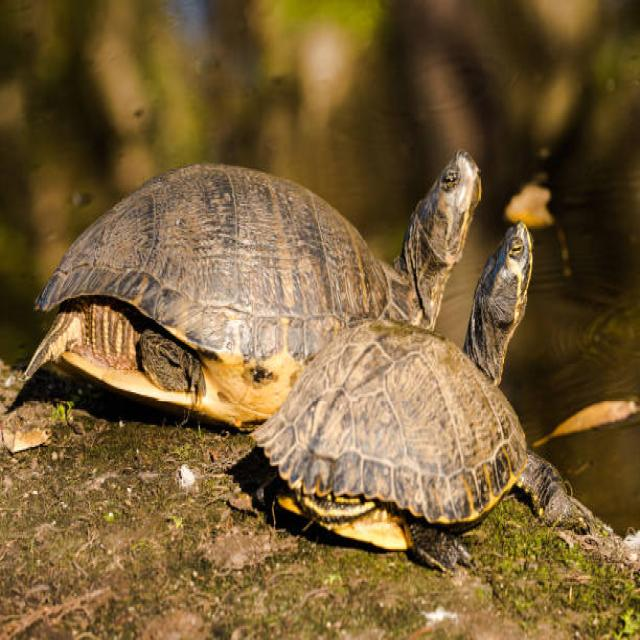terrapin: (32, 160, 391, 320), (250, 318, 518, 499), (402, 135, 483, 293), (472, 207, 536, 382), (134, 321, 231, 432), (12, 302, 118, 396), (517, 441, 594, 538), (394, 521, 486, 570)
